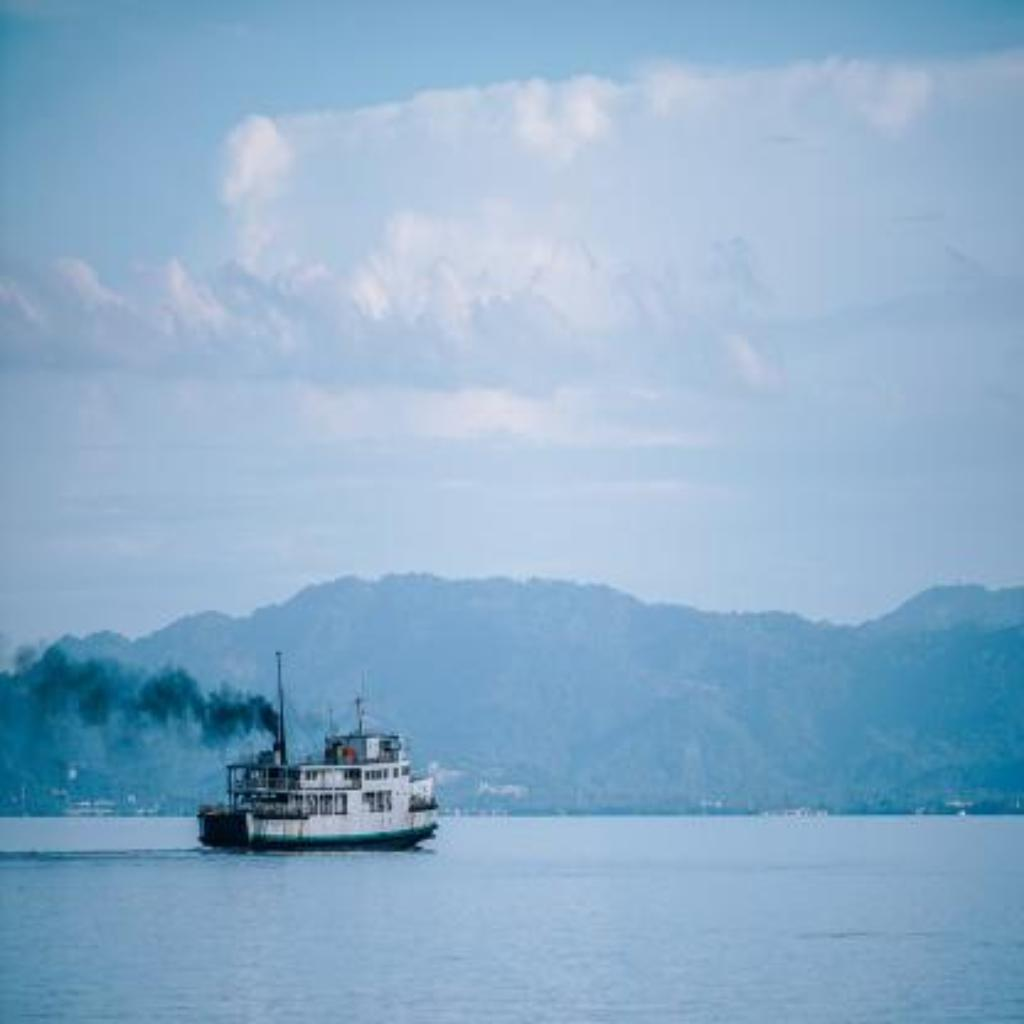PassengerShip: (198, 721, 438, 851)
